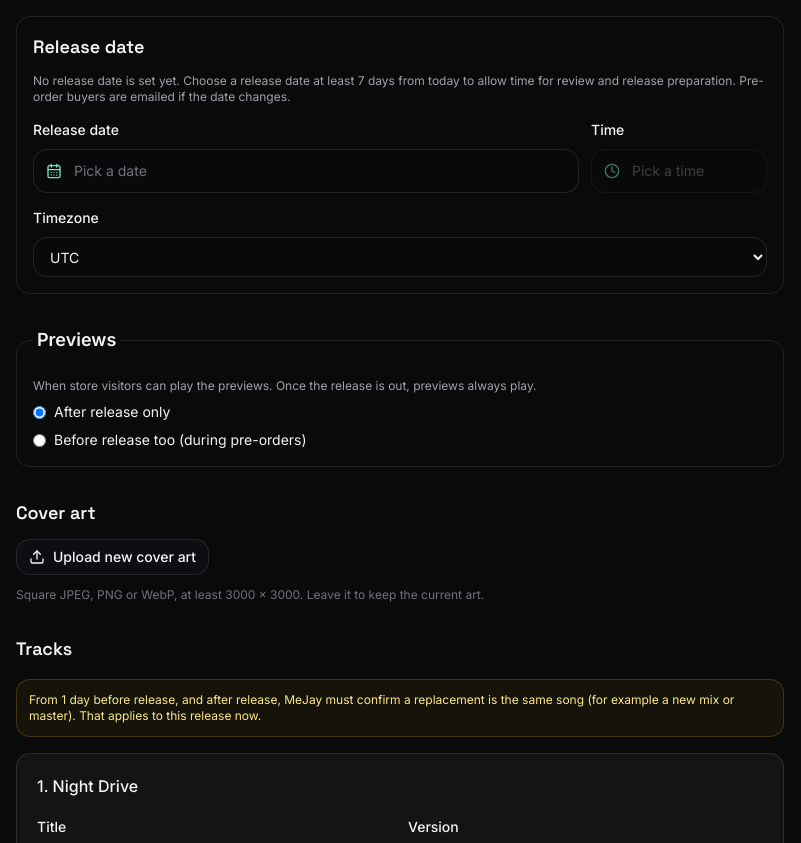
Test: request changes to an approved release › warns that previews before release need pre-orders
The width and height of the screenshot is (801, 843).
(page scrolled)
Click the radio button labelled "Before release too (during pre-orders)": (40, 440) [33,434,46,446]
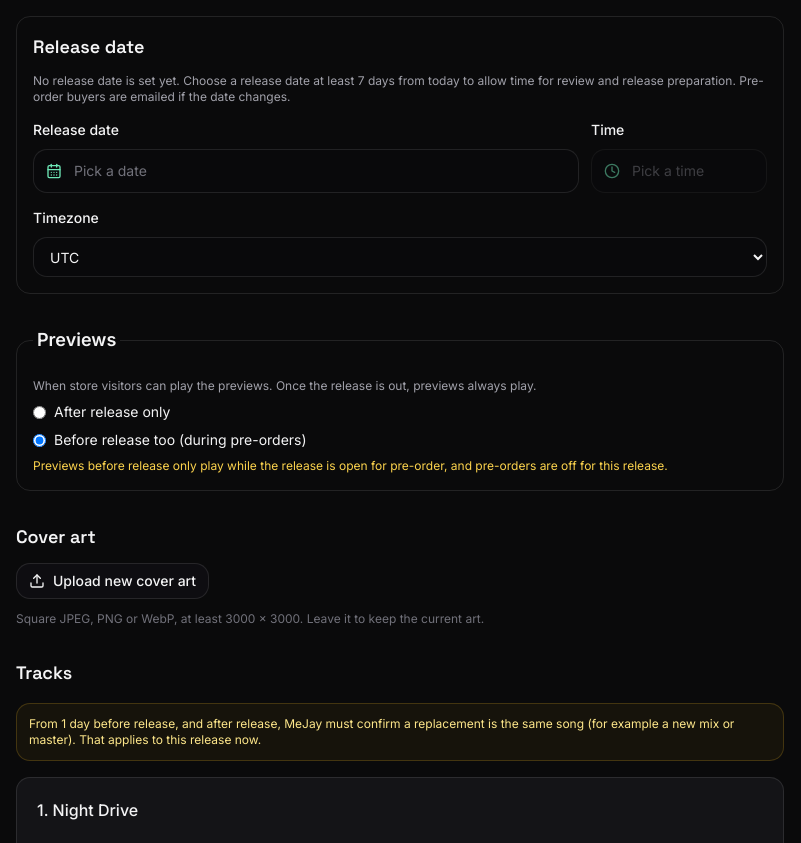
Expected: the text "pre-orders are off for this release" is shown, [33,458,668,473]
